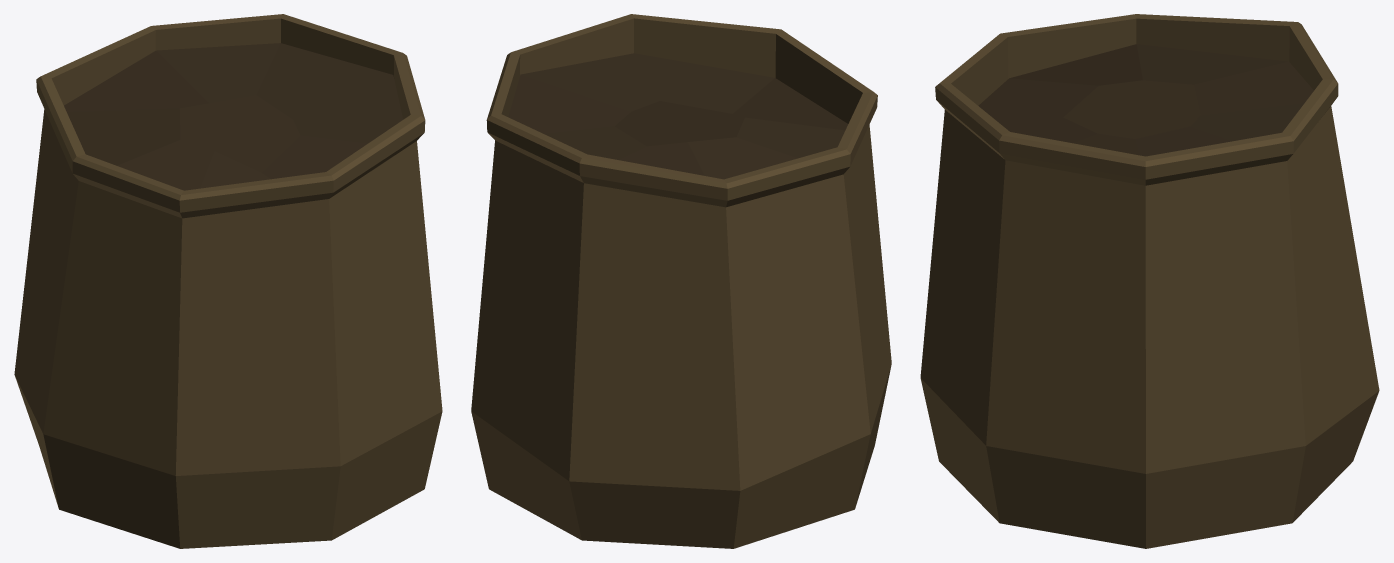
File: Bag_2.fbx
3 renders of one model, left to right at view 1: azimuth 30°, elevation 25°; view 2: azimuth 150°, elevation 25°; view 3: azimuth 270°, elevation 25°, orthographic. The views are drawn at different scales.
Parts seen in each view (by area): view 1: Bag_2; view 2: Bag_2; view 3: Bag_2.
Part boxes in pixels (left/top/right/bottom): Bag_2: left=14, top=14, right=442, bottom=548; Bag_2: left=471, top=14, right=891, bottom=548; Bag_2: left=920, top=14, right=1379, bottom=548.
Bounding box in the file's own units: 106 × 100 × 108.
